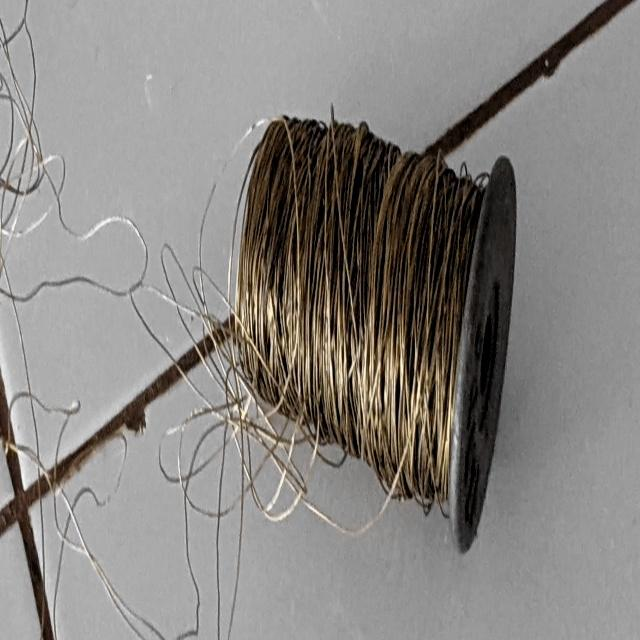Wire Coil: (210, 48, 536, 604)
